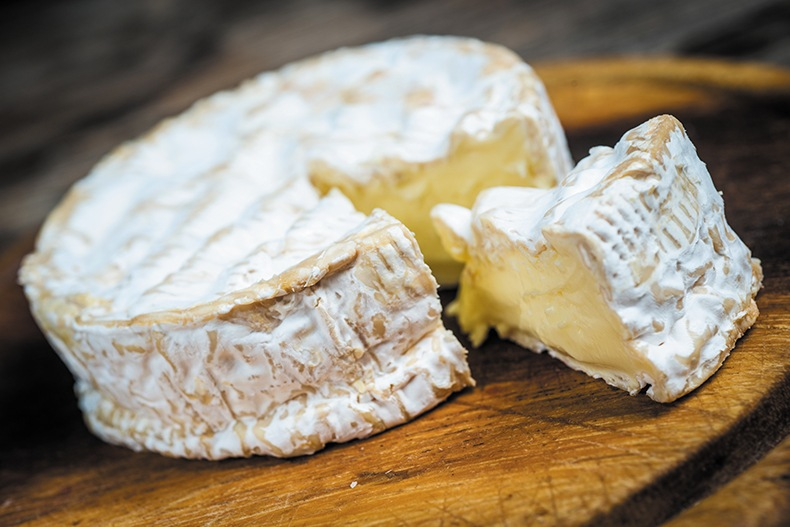camembert: (17, 31, 764, 462)
